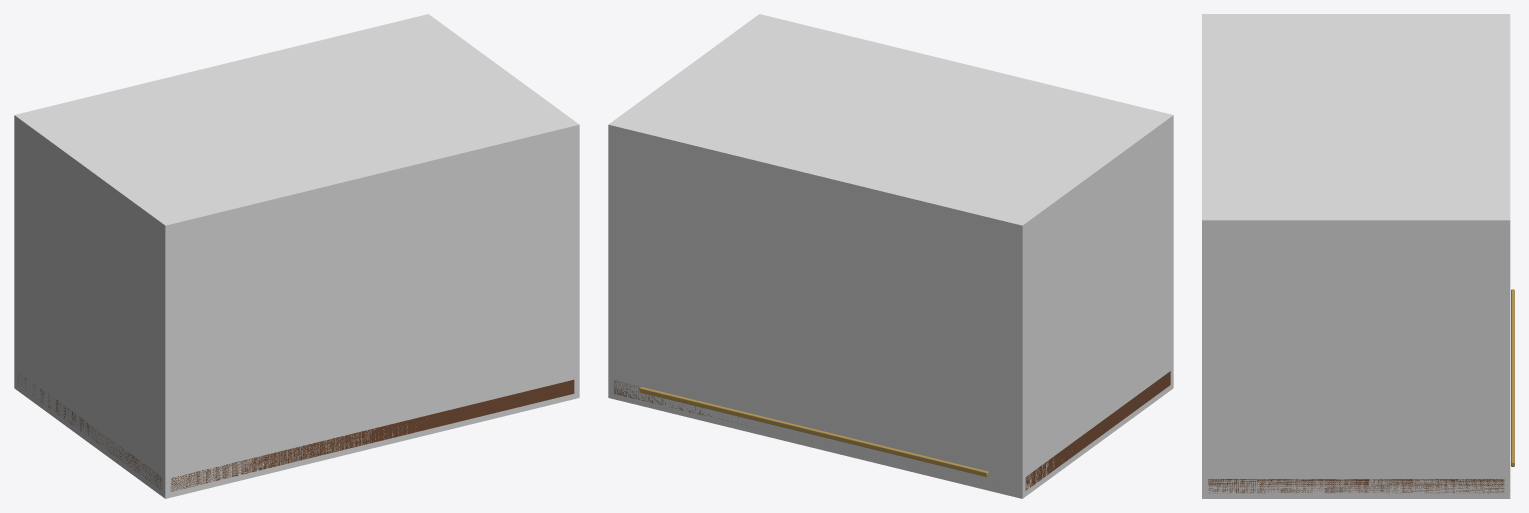
The model's file is luxury.glb.
3 renders of one model, left to right at view 1: azimuth 30°, elevation 25°; view 2: azimuth 150°, elevation 25°; view 3: azimuth 270°, elevation 25°, orthographic. The views are drawn at different scales.
Visible parts, largest first — view 1: COL_DISPLAY_ISLANDS_LUXURY, Island_Base.003; view 2: COL_DISPLAY_ISLANDS_LUXURY, Island_Base.003, Island_BrassToeKick; view 3: COL_DISPLAY_ISLANDS_LUXURY, Island_Base.003, Island_BrassToeKick.
Boxes of the visible parts, x1,y1,x2,y2 form: COL_DISPLAY_ISLANDS_LUXURY: (14,14,579,498); Island_Base.003: (18,373,574,491); COL_DISPLAY_ISLANDS_LUXURY: (608,14,1173,498); Island_Base.003: (614,371,1170,490); Island_BrassToeKick: (639,387,988,476); COL_DISPLAY_ISLANDS_LUXURY: (1202,14,1510,498); Island_Base.003: (1208,479,1504,493); Island_BrassToeKick: (1511,289,1514,466).
Size of the model in its own units: 2.24 by 1.41 by 1.44.
